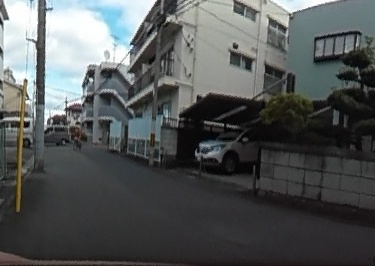person: (73, 123, 82, 147)
